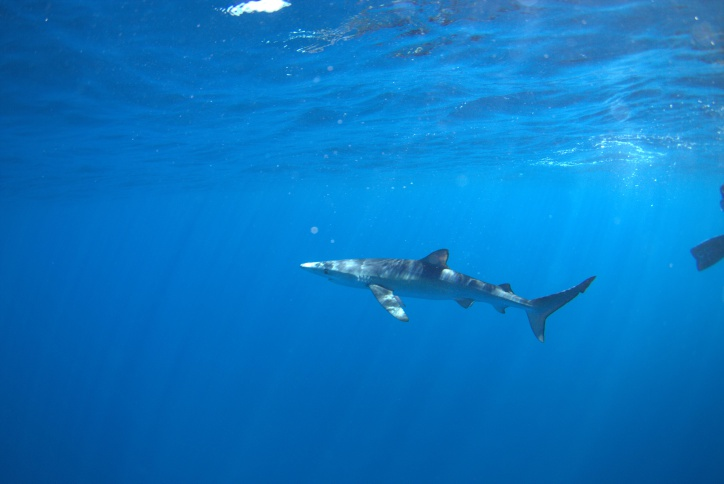Azul: (300, 230, 602, 355)
